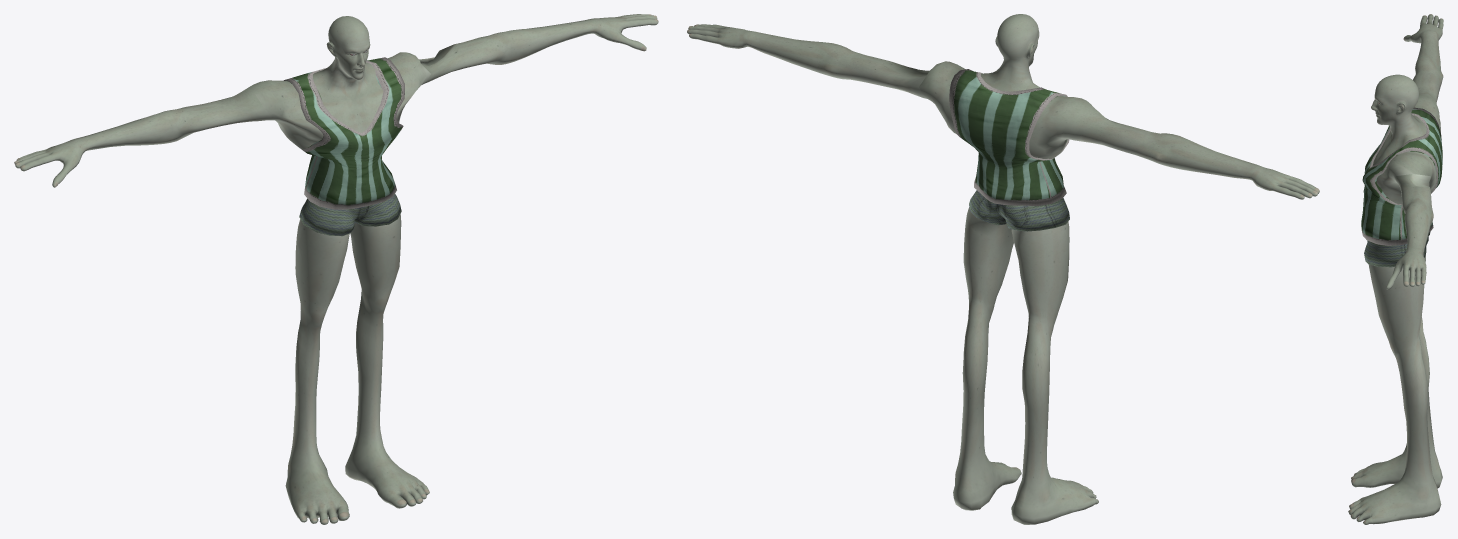
The model's file is Alien.obj.
3 renders of one model, left to right at view 1: azimuth 30°, elevation 25°; view 2: azimuth 150°, elevation 25°; view 3: azimuth 270°, elevation 25°, orthographic. The views are drawn at different scales.
Parts seen in each view (by area): view 1: Body, Tops, Bottoms; view 2: Body, Tops, Bottoms; view 3: Body, Tops, Bottoms.
Part boxes in pixels (x1,y1,x2,y2): Body: [14, 14, 658, 524]; Tops: [283, 57, 404, 209]; Bottoms: [299, 194, 401, 236]; Body: [687, 14, 1319, 524]; Tops: [949, 69, 1069, 205]; Bottoms: [969, 190, 1069, 231]; Body: [1348, 14, 1443, 524]; Tops: [1361, 107, 1442, 245]; Bottoms: [1364, 231, 1430, 267].
Size of the model in its own units: 254 by 184 by 37.58.
3 materials, 3 textured.
